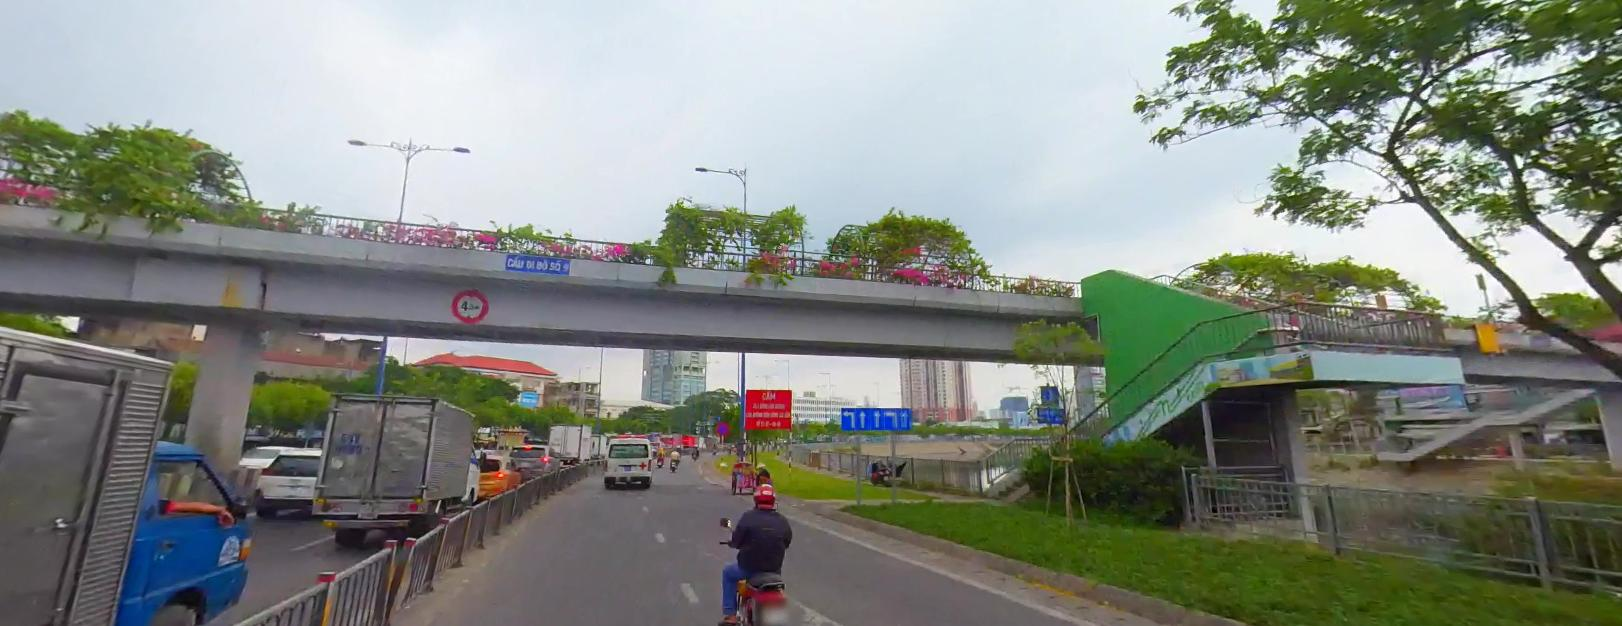Cam con lai: (449, 287, 489, 325)
Cam dung va do: (714, 421, 728, 434)
